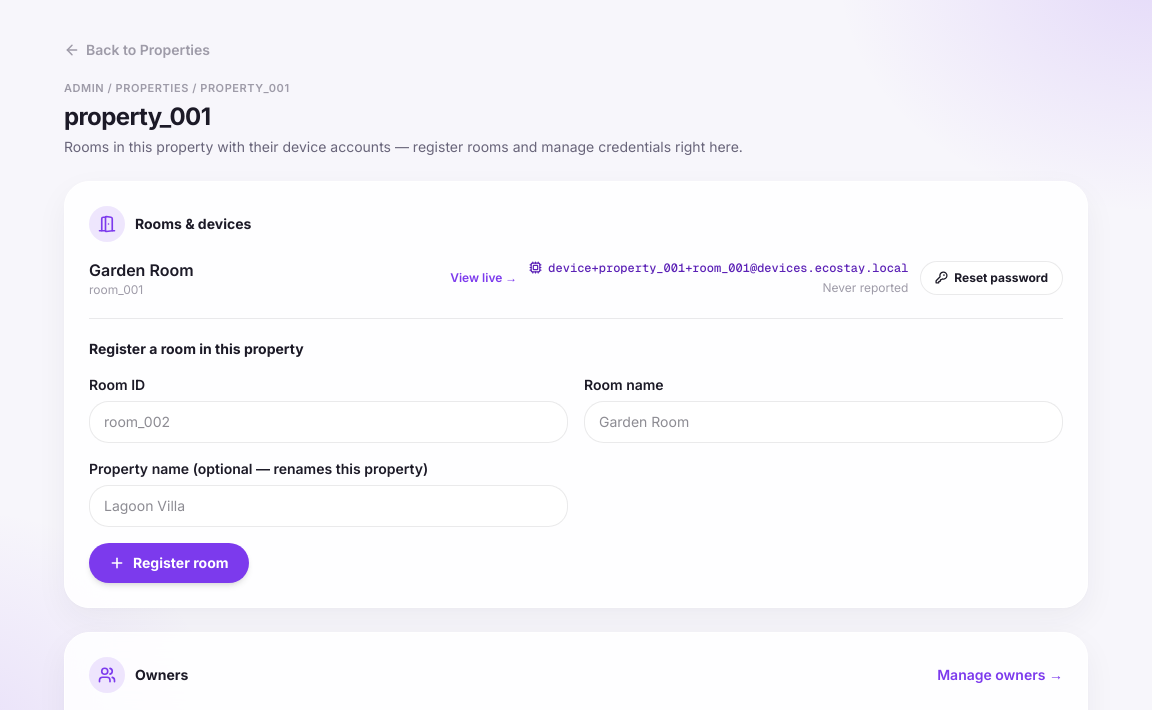
Test case: property detail — per-room device credentials (slice 05) › cancelling the confirmation resets nothing
The width and height of the screenshot is (1152, 710).
Click the button "Reset password" at (992, 278), box [920,260,1063,294]
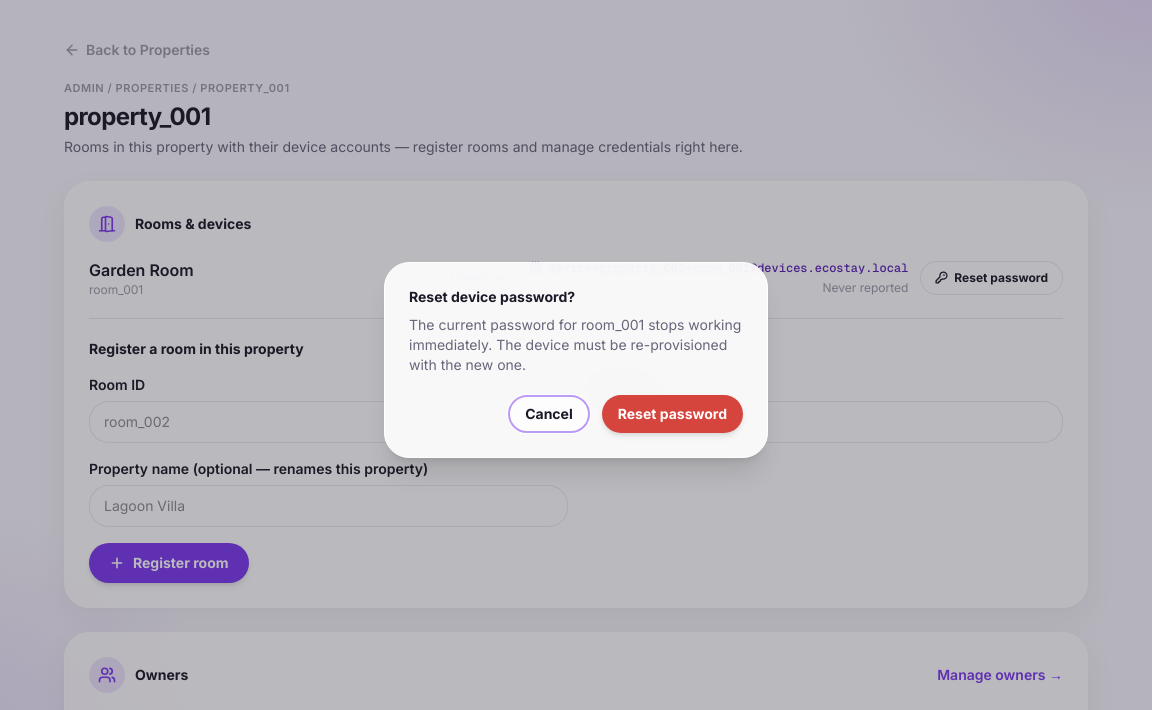
Click the button "Cancel" at (549, 414), box [508,395,590,433]
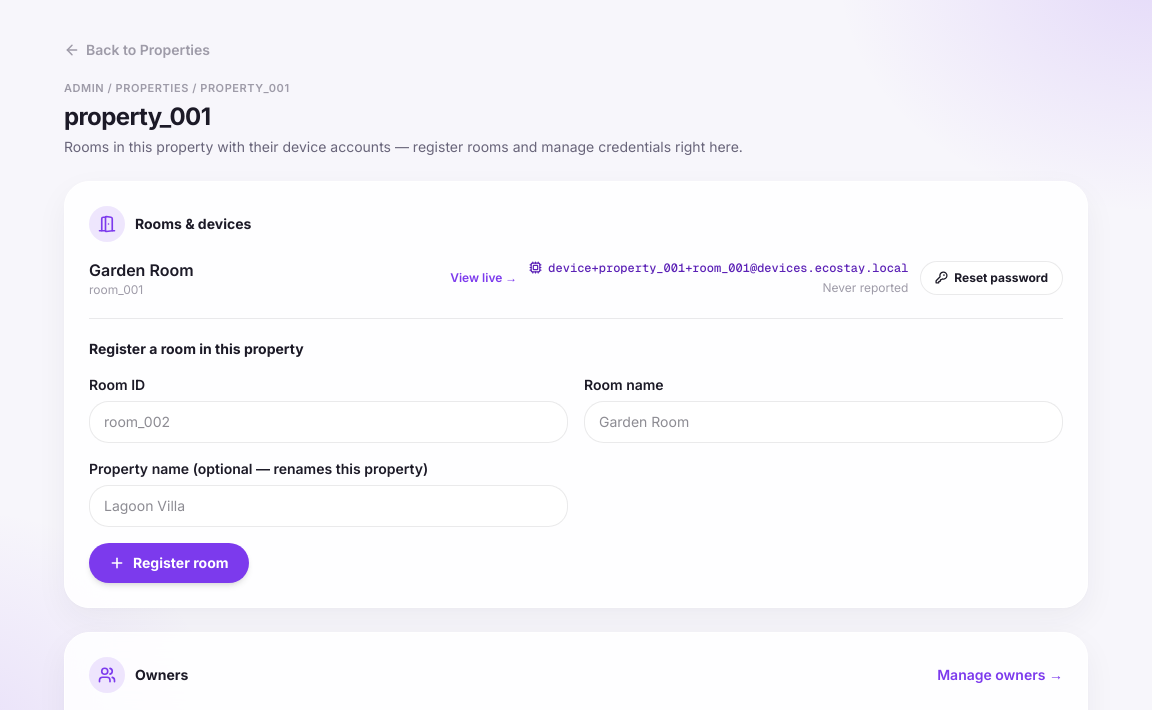
Expected: the dialog is gone
